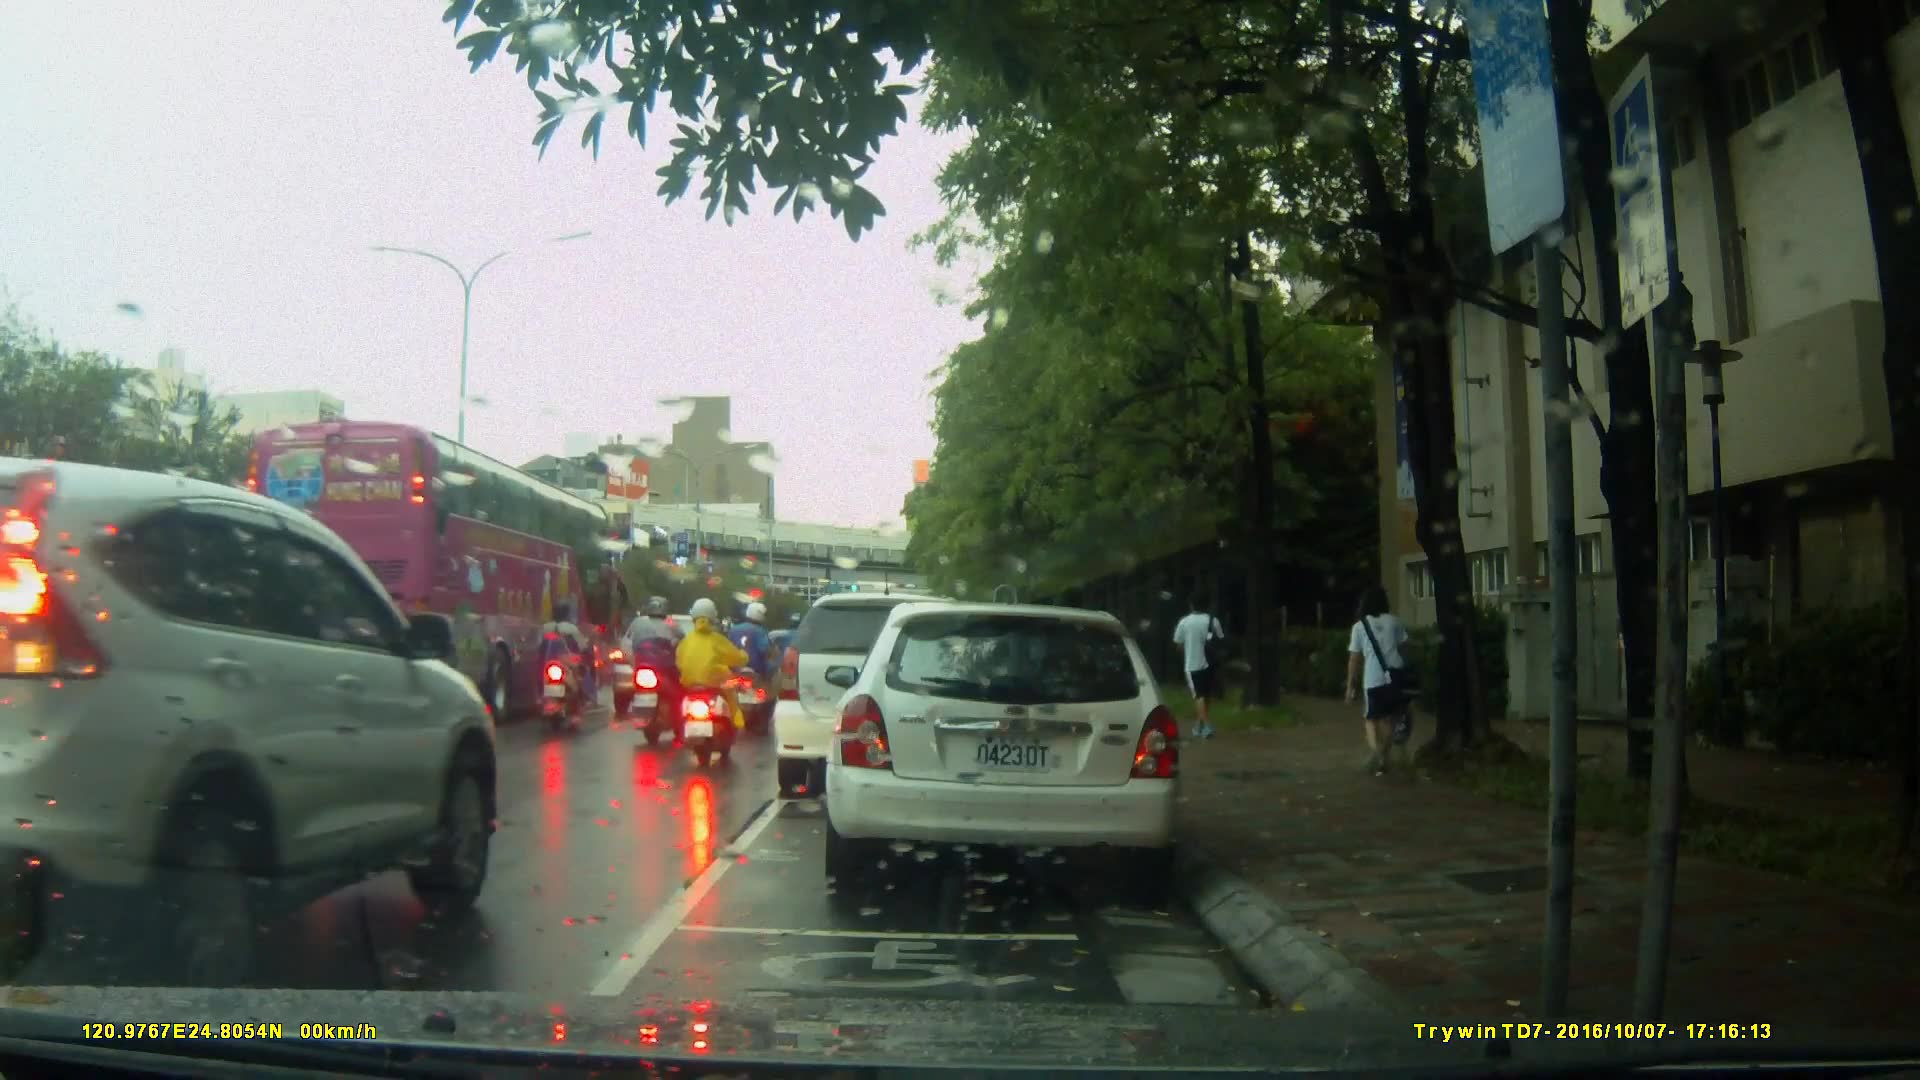pedestrian: (1344, 579, 1429, 791), (1165, 584, 1222, 740)
rider: (676, 598, 740, 764), (631, 592, 685, 746), (725, 605, 785, 732), (540, 605, 592, 732), (776, 612, 818, 719)
vehicle: (1, 453, 504, 990), (233, 418, 622, 717), (835, 594, 1194, 898), (776, 590, 1026, 784), (609, 615, 733, 710)
